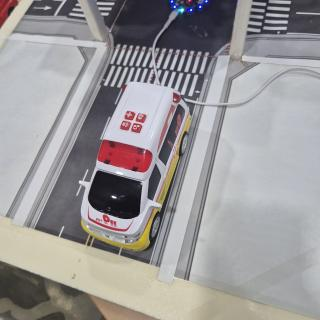Ambulance: (79, 82, 190, 251)
